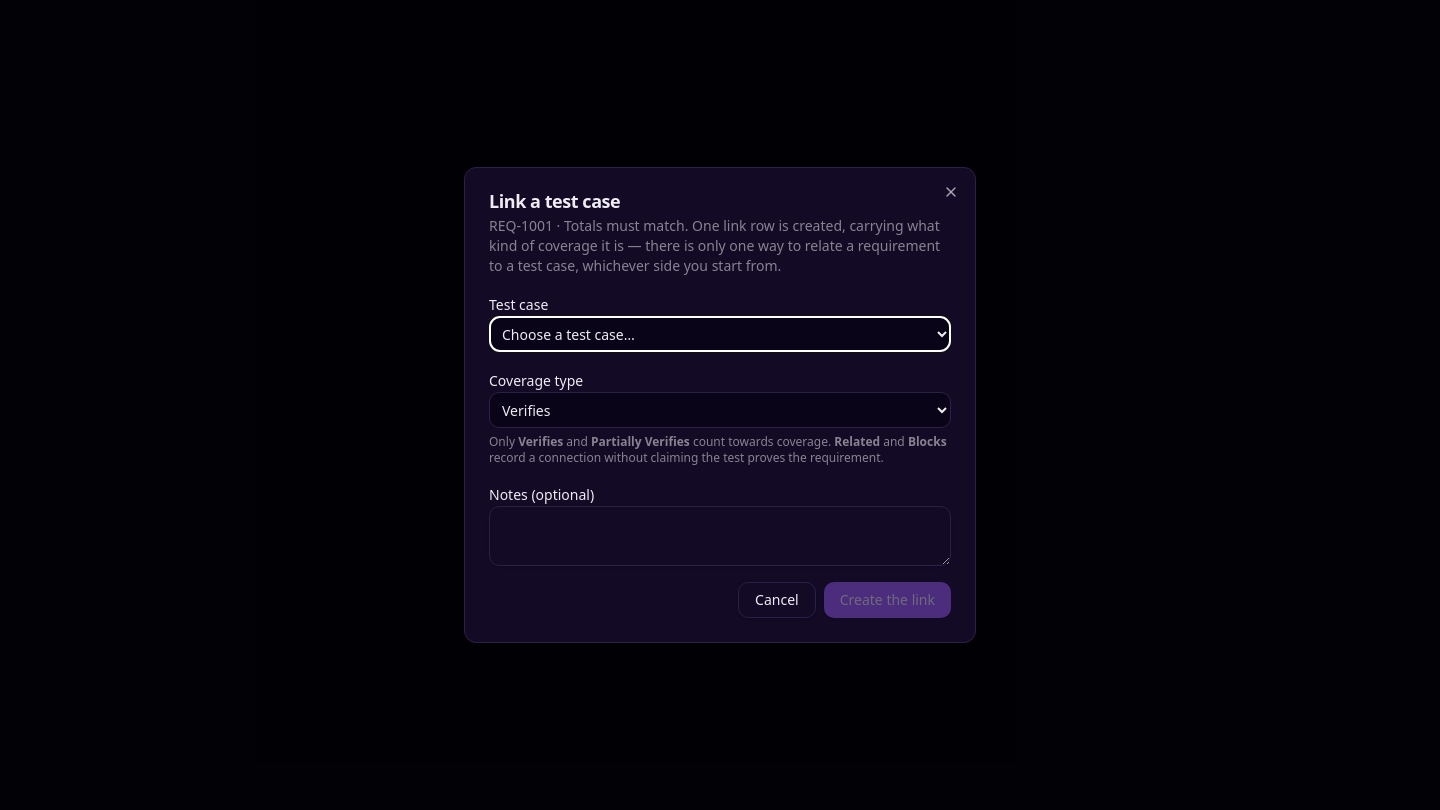
the dialog › asks for the other end and refuses to save without it
Check: the button "Create the link" is disabled, box [824,582,951,618]
Select "TC-1002 · Eligibility" in the dropdown labelled "Test case": coordinates (720, 334) [489,316,951,352]
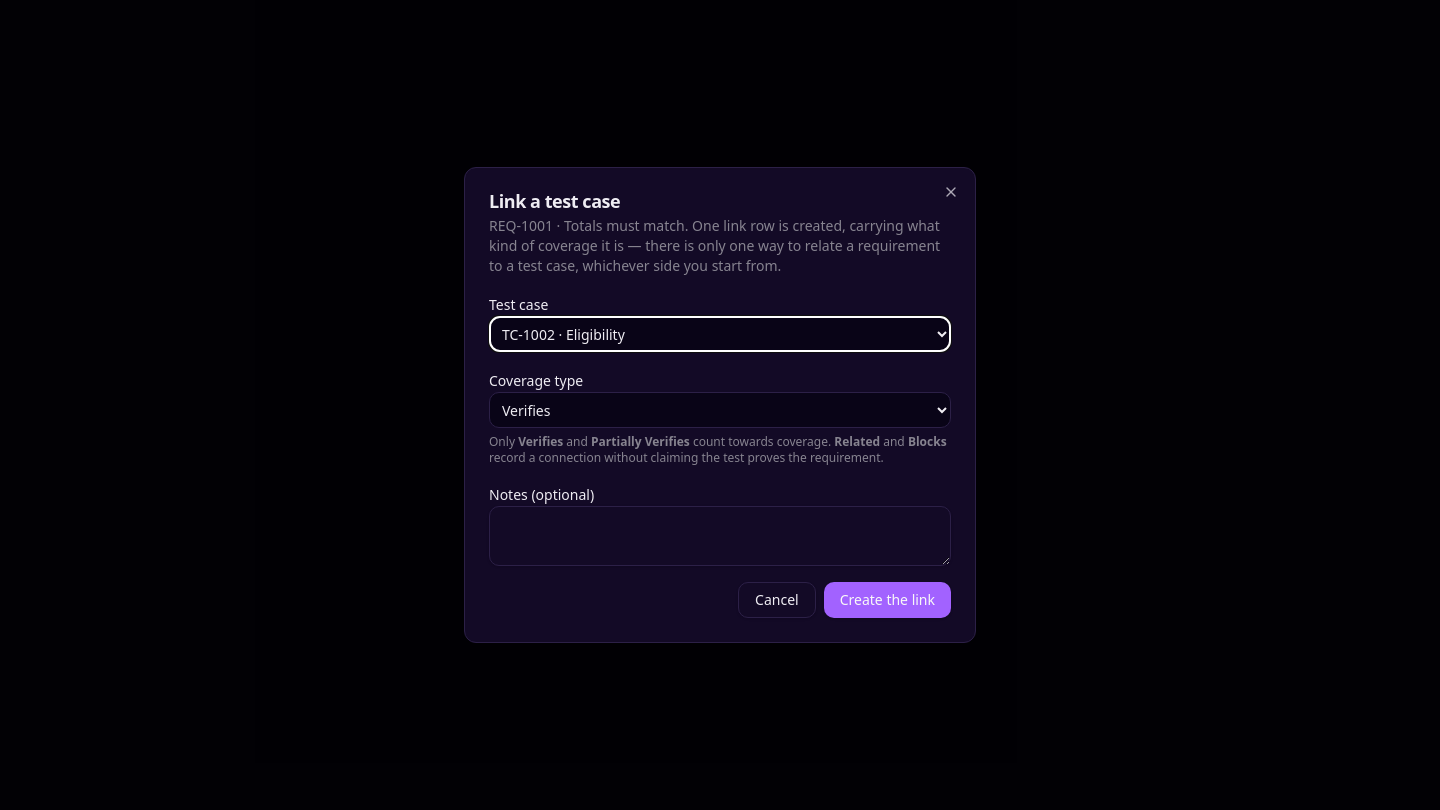
Check: the button "Create the link" is enabled, box [824,582,951,618]
